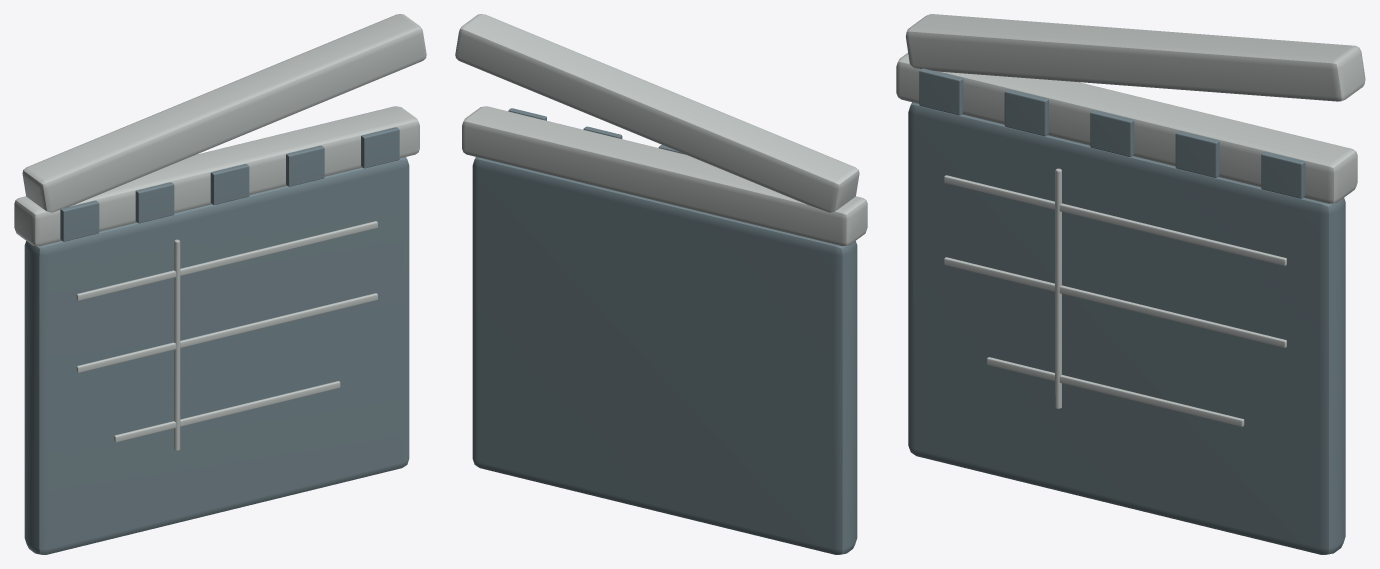
Rendered from clapperboard.glb.
3 renders of one model, left to right at view 1: azimuth 30°, elevation 25°; view 2: azimuth 150°, elevation 25°; view 3: azimuth 330°, elevation 25°, orthographic. The views are drawn at different scales.
Visible parts, largest first — view 1: slate, open_clapper, fixed_clapper, slate_rule.001, slate_rule, slate_rule.002, slate_vertical, clapper_stripe, clapper_stripe.001, clapper_stripe.002, clapper_stripe.004, clapper_stripe.003; view 2: slate, open_clapper, fixed_clapper; view 3: slate, open_clapper, fixed_clapper, slate_rule.001, slate_rule, slate_rule.002, clapper_stripe, clapper_stripe.001, clapper_stripe.002, clapper_stripe.003, clapper_stripe.004, slate_vertical.
Part boxes in pixels (<box>): slate: <box>24,157,409,554</box>; open_clapper: <box>22,14,426,212</box>; fixed_clapper: <box>14,106,419,246</box>; slate_rule.001: <box>76,293,377,372</box>; slate_rule: <box>76,221,377,300</box>; slate_rule.002: <box>114,381,340,442</box>; slate_vertical: <box>174,239,180,450</box>; clapper_stripe: <box>60,200,99,241</box>; clapper_stripe.001: <box>135,182,174,223</box>; clapper_stripe.002: <box>210,164,249,204</box>; clapper_stripe.004: <box>361,127,399,168</box>; clapper_stripe.003: <box>286,145,324,186</box>; slate: <box>472,157,857,554</box>; open_clapper: <box>455,14,859,212</box>; fixed_clapper: <box>462,106,867,246</box>; slate: <box>908,102,1345,554</box>; open_clapper: <box>905,14,1365,101</box>; fixed_clapper: <box>896,53,1357,203</box>; slate_rule.001: <box>944,257,1286,347</box>; slate_rule: <box>944,175,1286,265</box>; slate_rule.002: <box>986,357,1244,426</box>; clapper_stripe: <box>919,68,963,115</box>; clapper_stripe.001: <box>1004,89,1048,136</box>; clapper_stripe.002: <box>1090,110,1134,156</box>; clapper_stripe.003: <box>1175,131,1219,177</box>; clapper_stripe.004: <box>1261,152,1305,198</box>; slate_vertical: <box>1055,168,1061,408</box>.
Size of the model in its own units: 0.3155 by 0.3377 by 0.0365.
